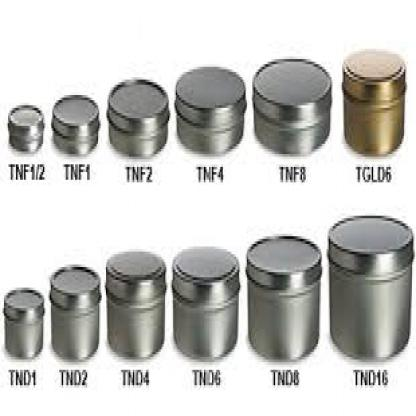METAL: (326, 213, 413, 362), (245, 231, 320, 357), (251, 54, 331, 154), (170, 247, 239, 354), (173, 64, 246, 154), (105, 246, 164, 357), (342, 51, 405, 154), (48, 262, 101, 359), (105, 75, 169, 154), (2, 285, 44, 357), (51, 93, 99, 154), (5, 102, 43, 152)
